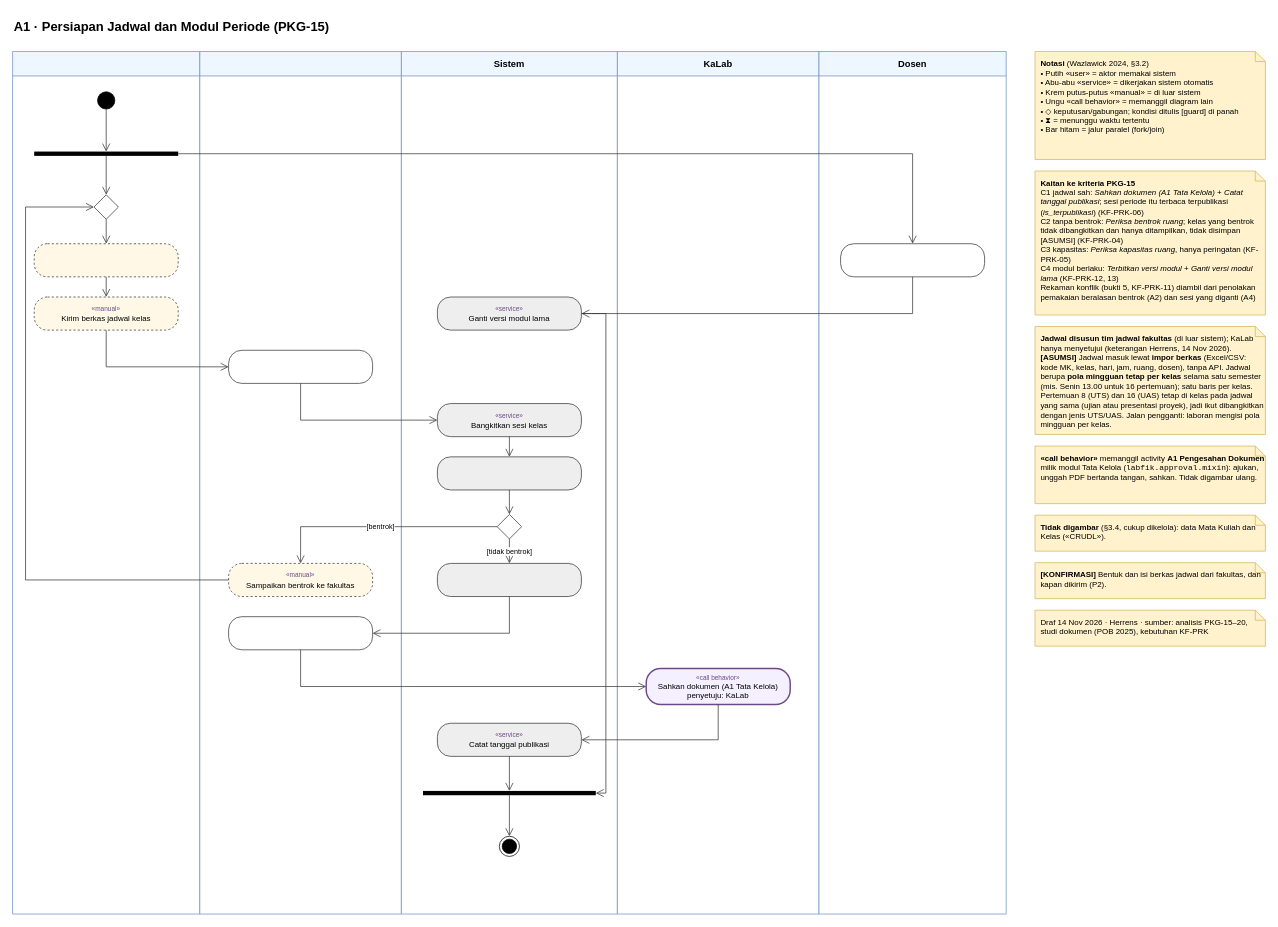
Image size: 1278x927. Some labels were removed from this diagram. Each missing label, with the box of its shape:
Laboran: (199, 51, 401, 914)
Tim Jadwal Fakultas: (12, 51, 200, 914)
«manual» Susun jadwal kelas praktikum: (33, 243, 178, 277)
«service» Periksa bentrok ruang: (437, 456, 581, 490)
«service» Periksa kapasitas ruang: (437, 563, 581, 597)
«user» Impor jadwal kelas: (228, 350, 373, 383)
«user» Susun penetapan jadwal: (228, 616, 373, 650)
«user» Terbitkan versi modul: (840, 243, 985, 277)
